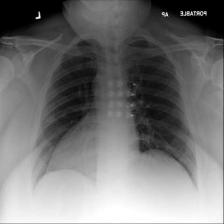normal: (26, 32, 202, 198)
